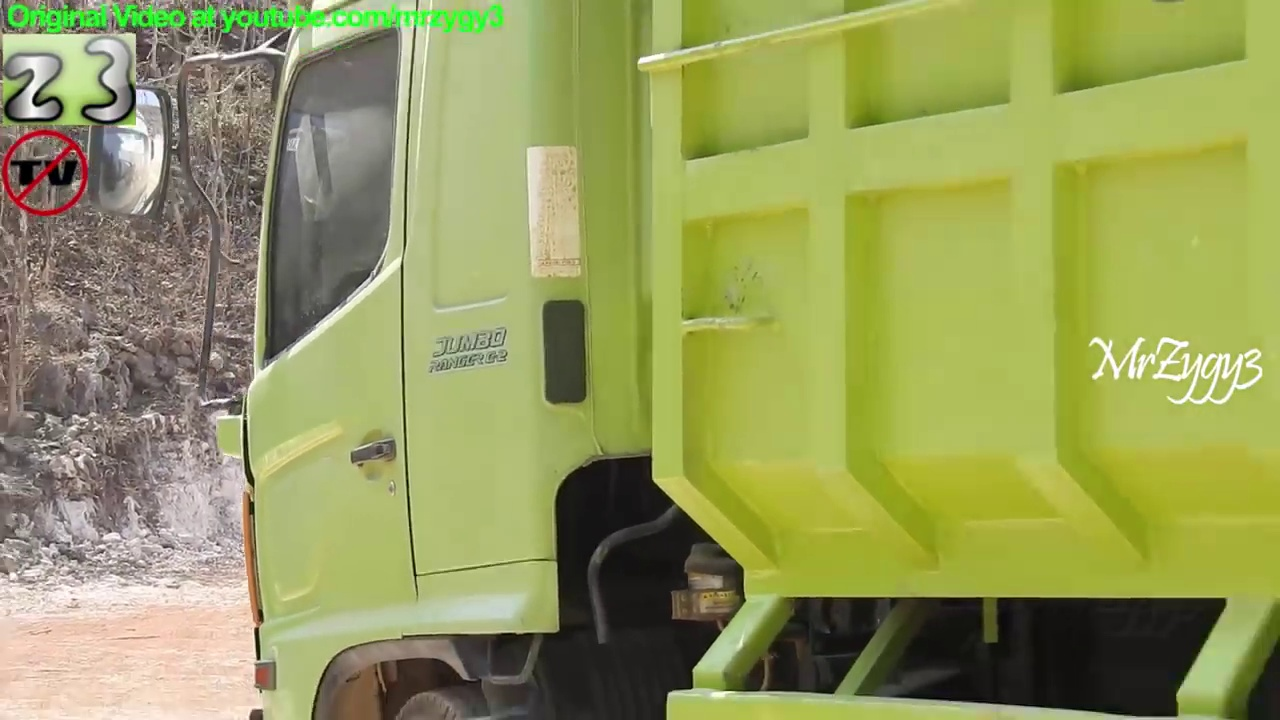truck: (71, 1, 1280, 720)
